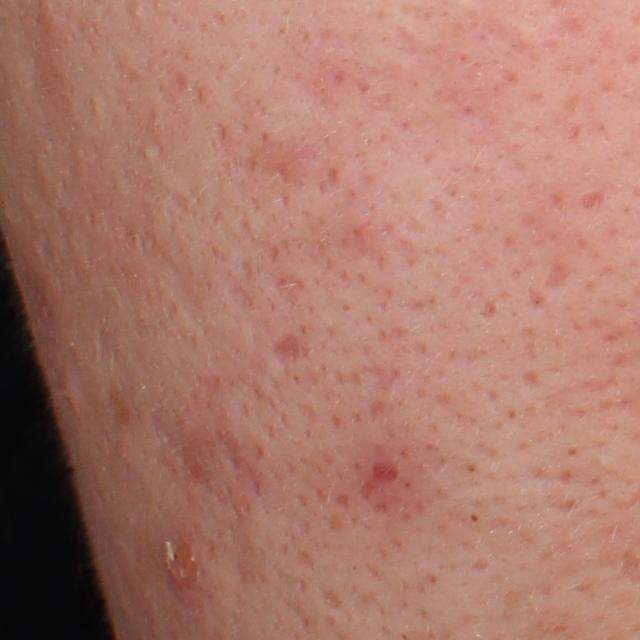atrophic_scar: (538, 253, 579, 291), (266, 327, 301, 370), (367, 460, 398, 484), (577, 190, 605, 209)
comedo: (461, 508, 485, 530)
